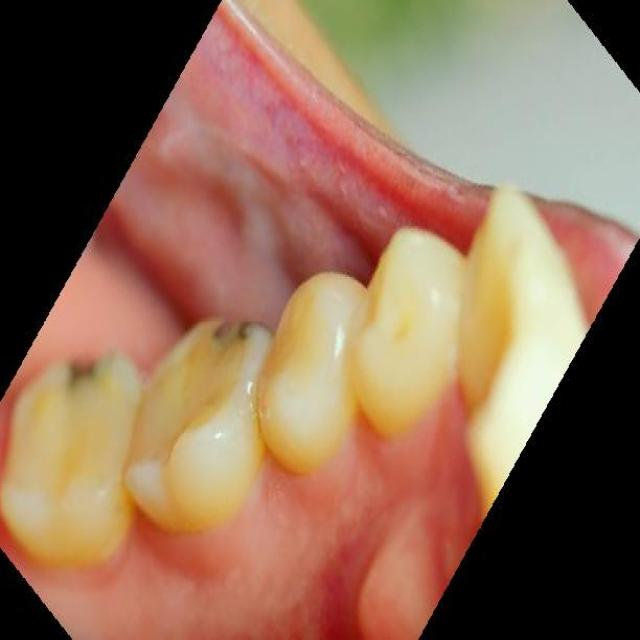caries: (206, 300, 263, 358), (52, 344, 116, 392)
